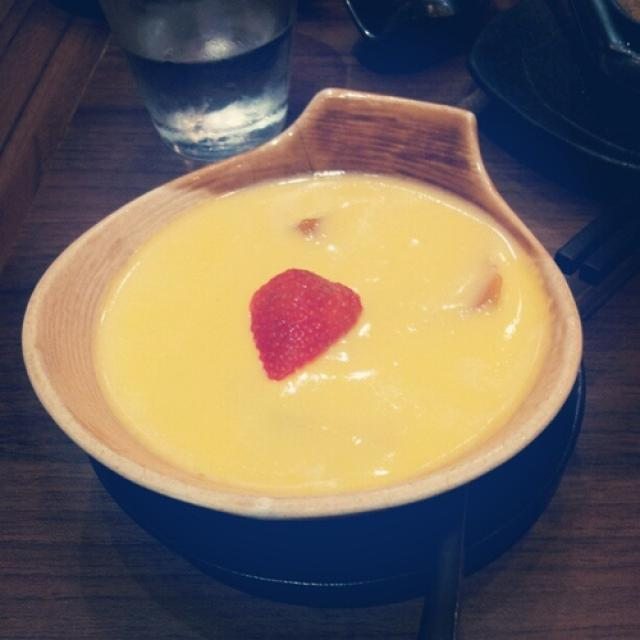蛋糕甜品: (15, 52, 598, 552)
